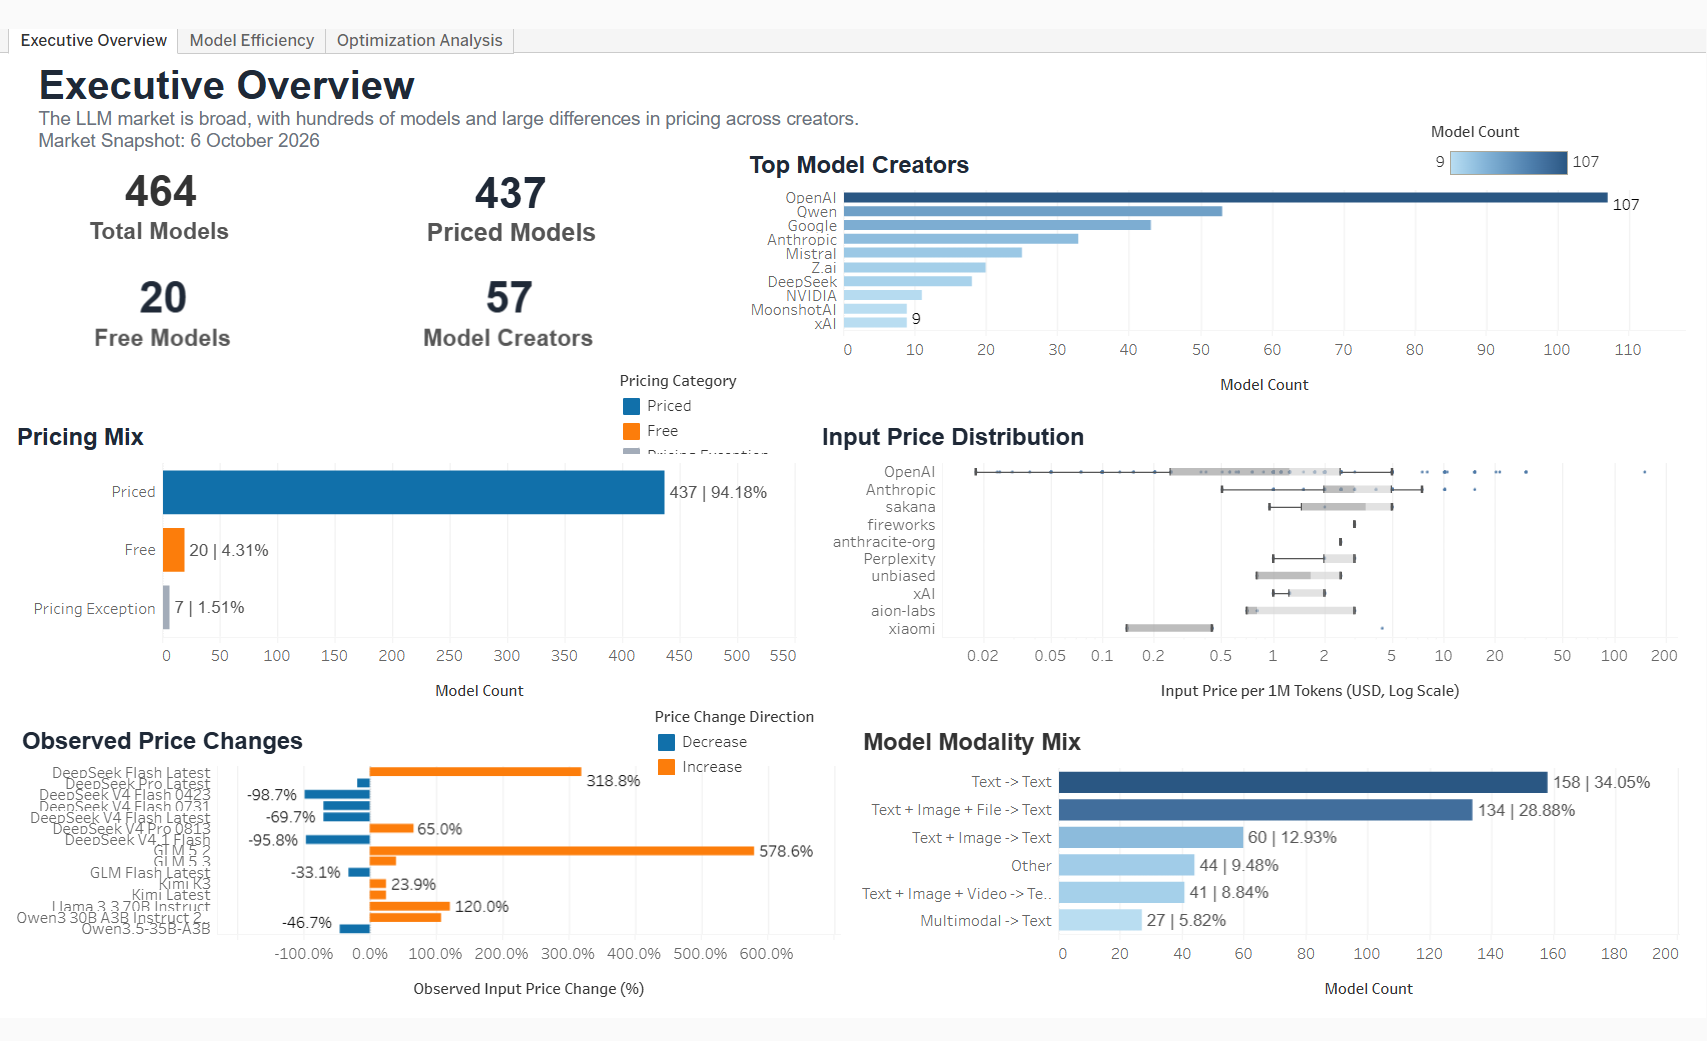

The page's visual inventory and layout, read from the dashboard file:
{"tool":"tableau","page":{"name":"Executive Overview","canvas":[1366,768],"ordinal":0},"visuals":[{"type":"text","box":[32,5,835,71]},{"type":"legend","title":"Top Model Creators","param":"[federated.1654s7q06xouyc1eimym81wmfhwg].[ctd:model_id:qk]","box":[1146,52.1,140,68.3]},{"type":"worksheet","title":"Top Model Creators","mark":"Automatic","rows":["Calculation_0014209267818500"],"cols":["model_id"],"box":[596,69,754,207]},{"type":"worksheet","title":"KPI - Total Models","mark":"Automatic","box":[37,87,186,65]},{"type":"worksheet","title":"KPI - Priced Models","mark":"Automatic","box":[317,87,186,68]},{"type":"worksheet","title":"KPI - Free Models","mark":"Automatic","box":[39,172,186,65]},{"type":"worksheet","title":"KPI - Model Creators","mark":"Automatic","box":[316,172,186,65]},{"type":"legend","title":"Pricing Mix","param":"[federated.1654s7q06xouyc1eimym81wmfhwg].[none:Calculation_0014209267982341:nk]","box":[497,250.9,141,67.4]},{"type":"worksheet","title":"Pricing Mix","mark":"Automatic","rows":["Calculation_0014209267982341"],"cols":["model_id"],"box":[11,286.7,628,234.7]},{"type":"worksheet","title":"Input Price Distribution","mark":"Circle","rows":["Calculation_0014209267818500"],"cols":["prompt_price_per_1m"],"box":[655,286.7,689,233.8]},{"type":"legend","title":"Observed Price Changes","param":"[federated.1654s7q06xouyc1eimym81wmfhwg].[none:Calculation_0014484160708691:nk]","box":[525,520,141,55]},{"type":"worksheet","title":"Observed Price Changes","mark":"Automatic","rows":["Calculation_0014209268469768"],"cols":["Calculation_0014209282236461"],"box":[15,530,659,229]},{"type":"worksheet","title":"Model Modality Mix","mark":"Automatic","rows":["Calculation_0014209279946789"],"cols":["model_id"],"box":[688,530.8,657,228.7]}]}

Visuals, with their boxes on the page's 1366x768 design canvas (x1, y1, x2, y2). These are canvas units, not pixel positions in the 1707x1041 screenshot, which may show the page scaled, cropped or inside an application window:
text: locate(32, 5, 867, 76)
"Top Model Creators" legend: locate(1146, 52, 1286, 120)
"Top Model Creators" worksheet: locate(596, 69, 1350, 276)
"KPI - Total Models" worksheet: locate(37, 87, 223, 152)
"KPI - Priced Models" worksheet: locate(317, 87, 503, 155)
"KPI - Free Models" worksheet: locate(39, 172, 225, 237)
"KPI - Model Creators" worksheet: locate(316, 172, 502, 237)
"Pricing Mix" legend: locate(497, 251, 638, 318)
"Pricing Mix" worksheet: locate(11, 287, 639, 521)
"Input Price Distribution" worksheet (Circle marks): locate(655, 287, 1344, 520)
"Observed Price Changes" legend: locate(525, 520, 666, 575)
"Observed Price Changes" worksheet: locate(15, 530, 674, 759)
"Model Modality Mix" worksheet: locate(688, 531, 1345, 760)
